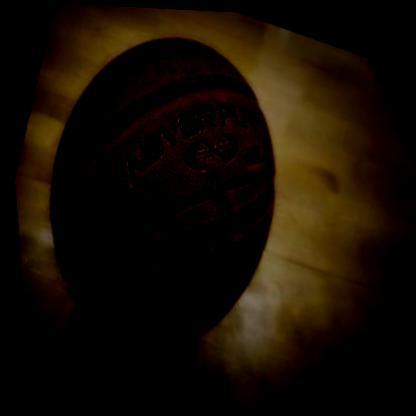basketball: (0, 0, 329, 392)
